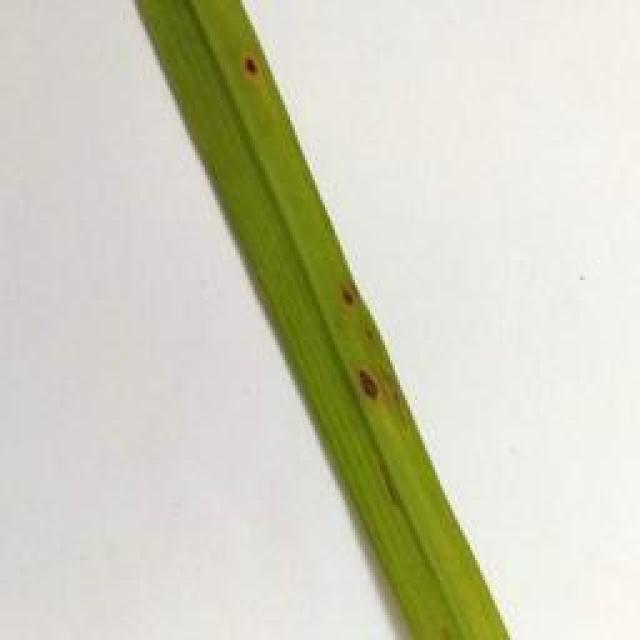Brown_Spot: (350, 364, 387, 406), (336, 275, 367, 309), (235, 43, 259, 79), (364, 318, 379, 342)
